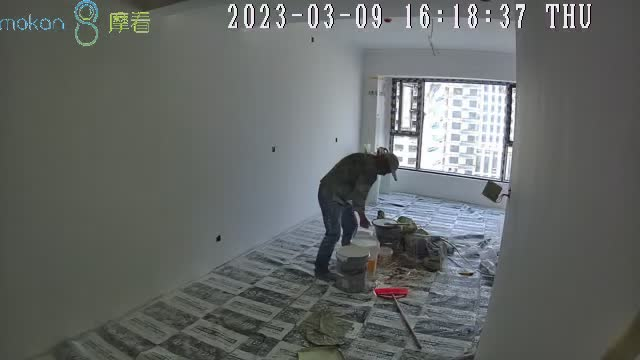people: (314, 148, 399, 278)
window: (391, 79, 517, 181)
